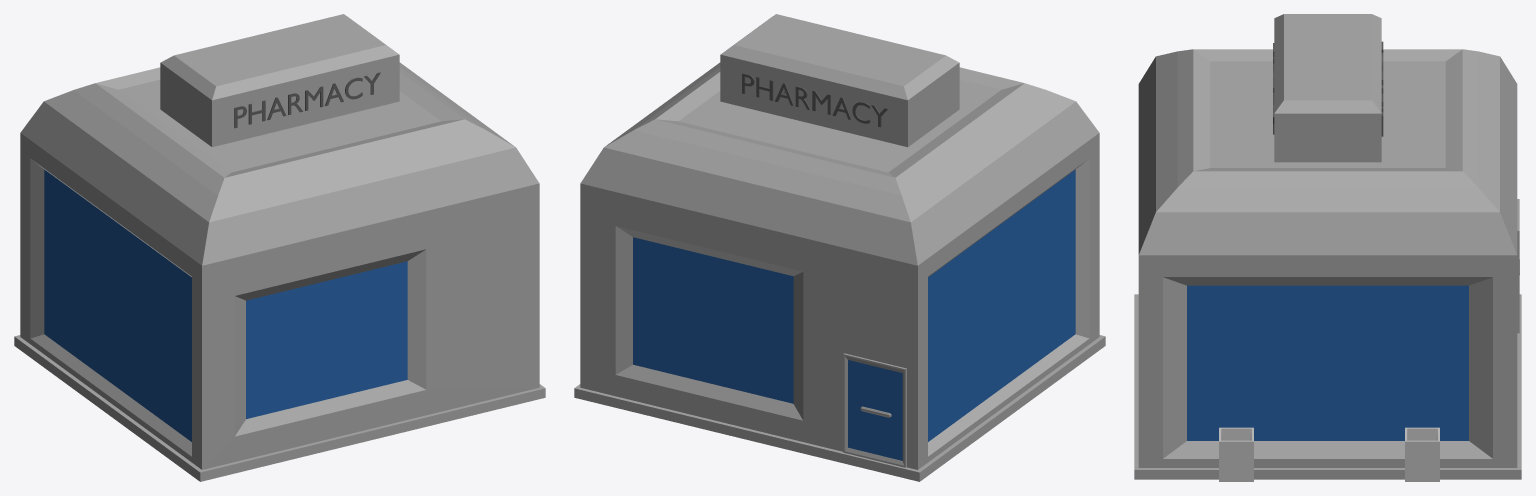
The model's file is pharmacy.glb.
3 renders of one model, left to right at view 1: azimuth 30°, elevation 25°; view 2: azimuth 150°, elevation 25°; view 3: azimuth 270°, elevation 25°, orthographic. The views are drawn at different scales.
Visible parts, largest first — view 1: PHARMACY.001_COLOR.016_0; view 2: PHARMACY.001_COLOR.016_0; view 3: PHARMACY.001_COLOR.016_0.
Boxes of the visible parts, x1,y1,x2,y2 form: PHARMACY.001_COLOR.016_0: [14, 14, 545, 481]; PHARMACY.001_COLOR.016_0: [574, 14, 1105, 481]; PHARMACY.001_COLOR.016_0: [1134, 14, 1521, 481].
Size of the model in its own units: 1.9 by 1.58 by 1.66.
1 material, 1 textured.
